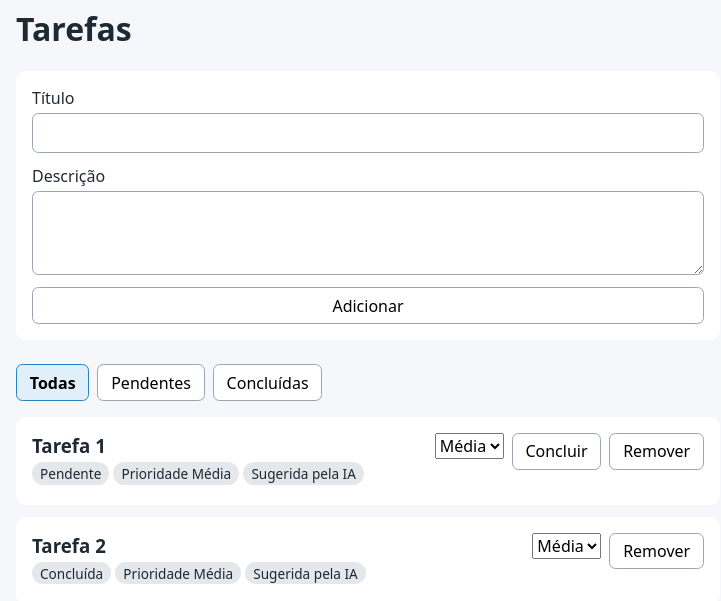
App › filtra por pendentes e concluídas
The width and height of the screenshot is (721, 601).
Expected: the heading "Tarefa 1" is shown, [32,433,106,458]
Step 1. Click the button "Concluídas" → (268, 383), box [213,364,322,401]
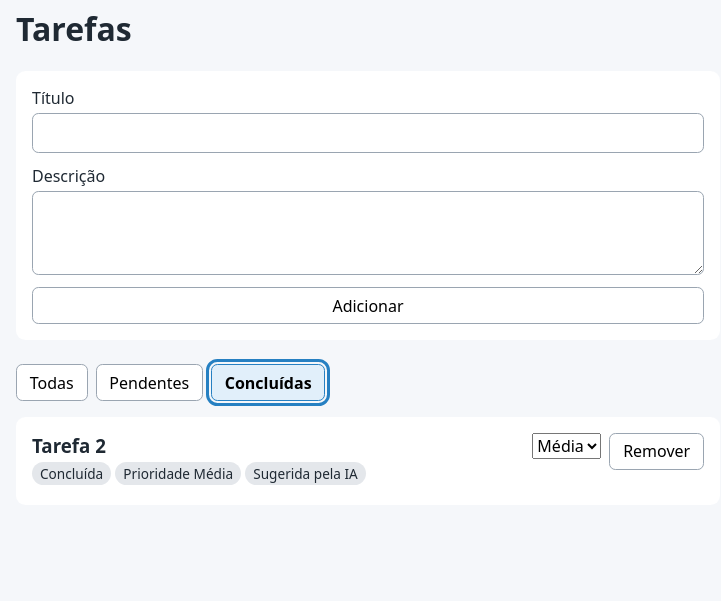
Expected: the heading "Tarefa 2" is shown, [32,433,106,458]
Now the heading "Tarefa 1" is gone
Step 2. Click the button "Pendentes" → (149, 383), box [96,364,203,401]
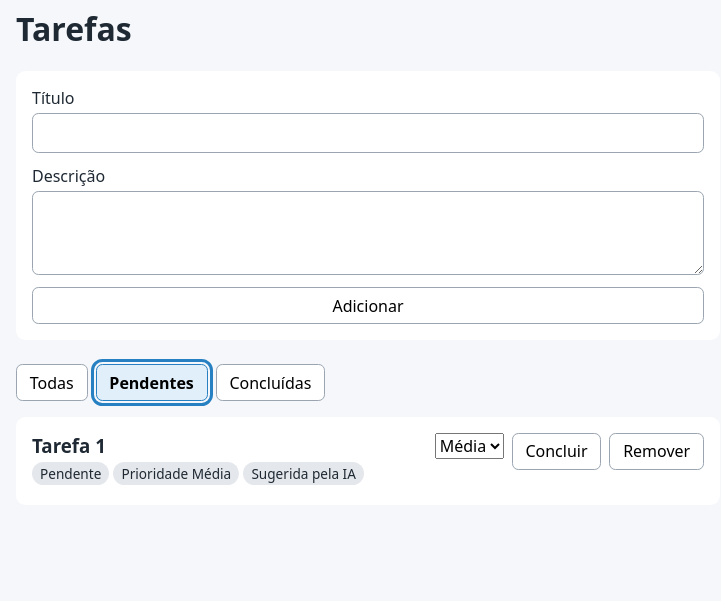
Now the heading "Tarefa 1" is shown, box [32,433,106,458]
Now the heading "Tarefa 2" is gone
